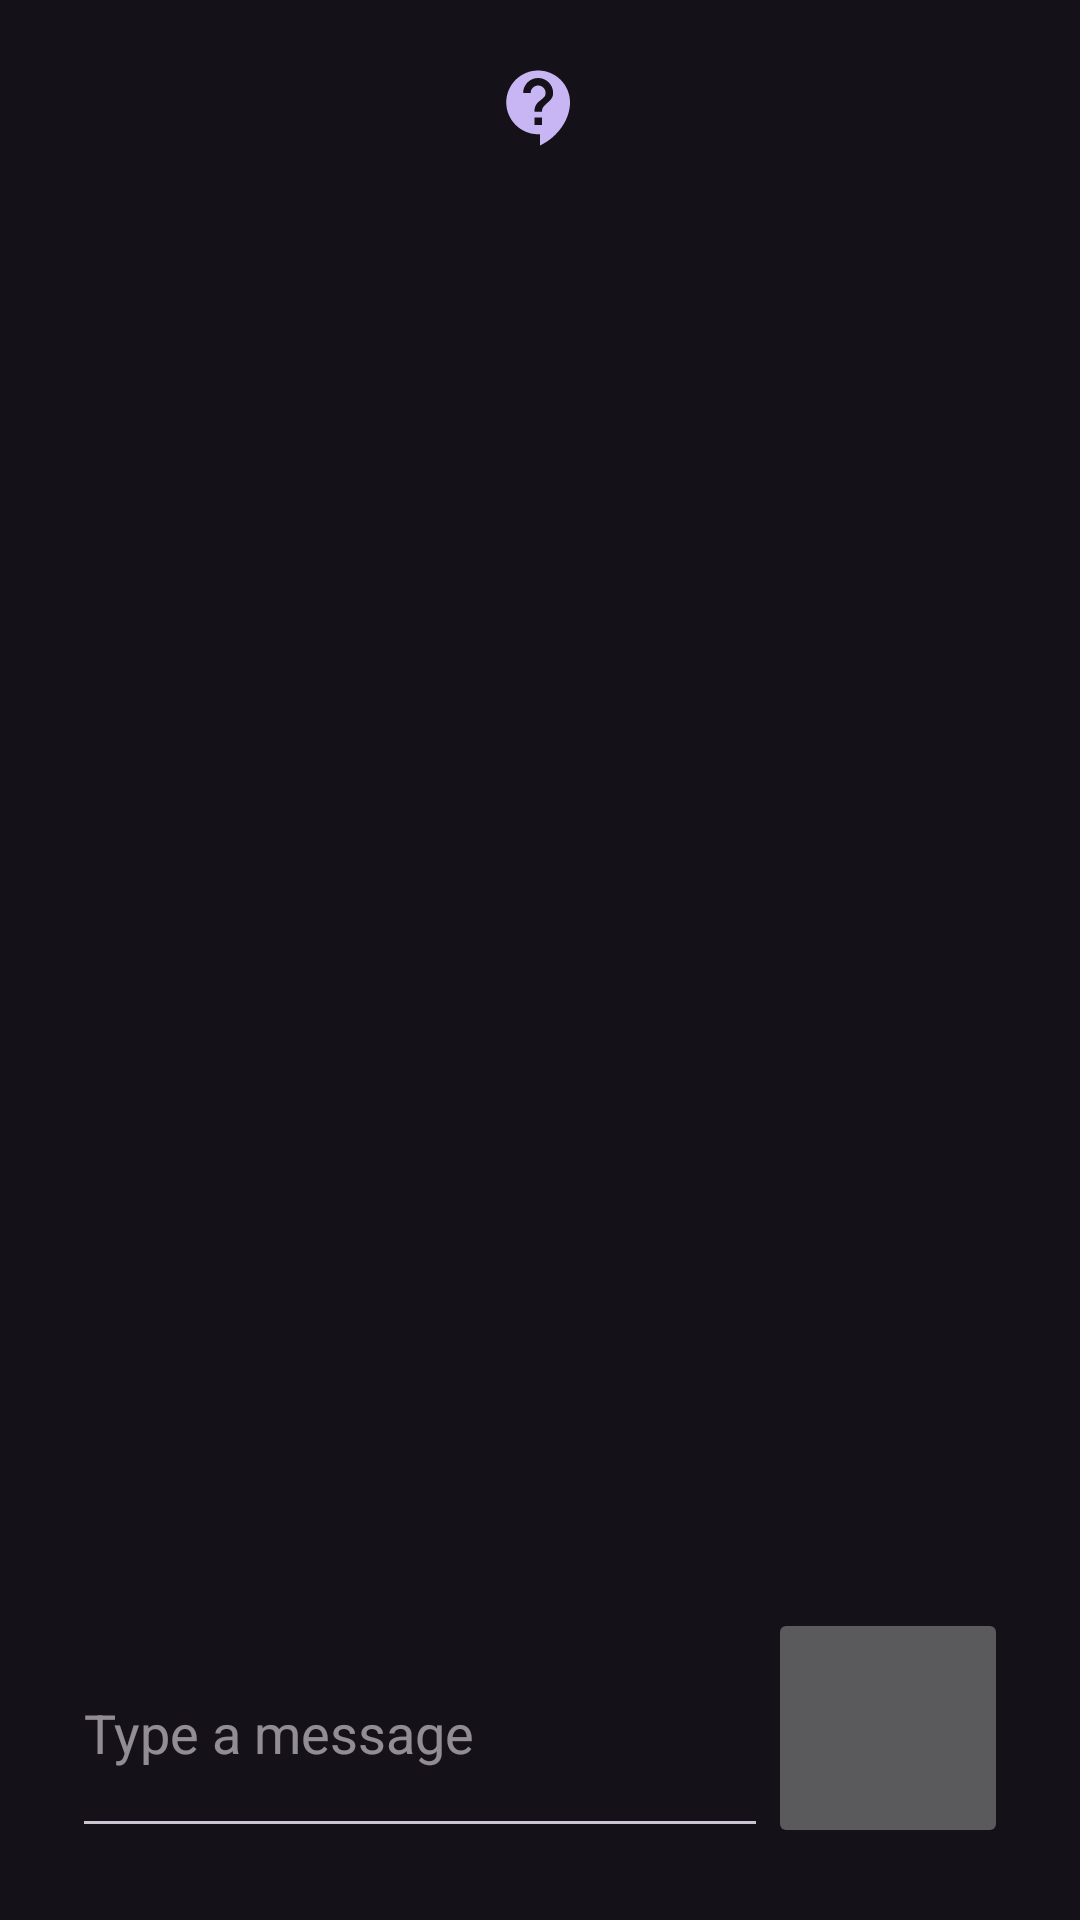

Icons on this 1080x1920 Android screen, each with its box as (x1, y1, x2, y2):
support: (506, 70, 570, 146)
